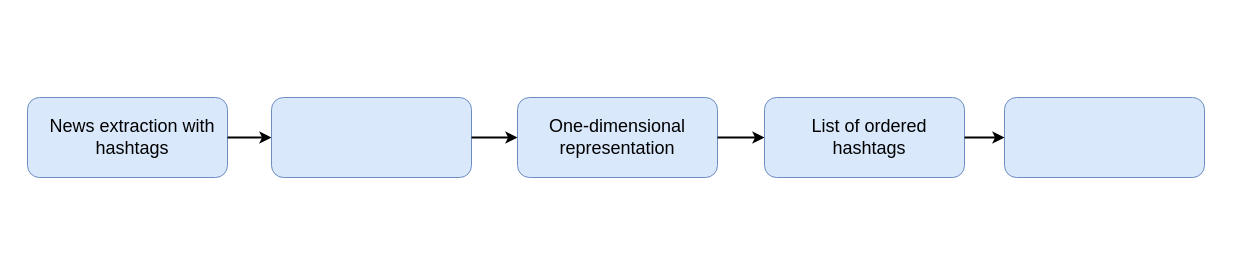
This 1234x274 diagram has some shape labels left out. The centre of each missing label's shape, as x and y in pixels:
Bibartite network + Incidence matrix: point (371, 137)
Stable pattern extraction: point (1104, 137)
